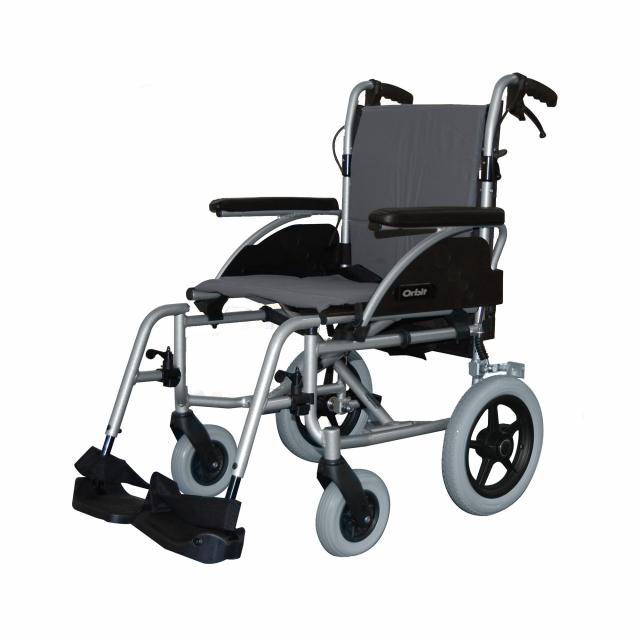wheelchair: (61, 61, 570, 572)
